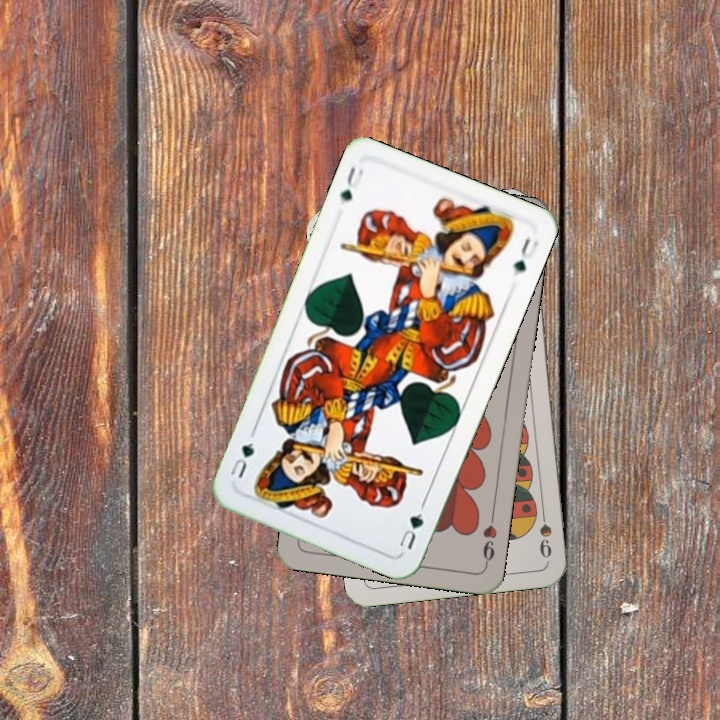GU: (393, 499, 428, 552), (336, 162, 366, 204)
H9: (478, 510, 500, 569)
S9: (535, 502, 555, 561)
